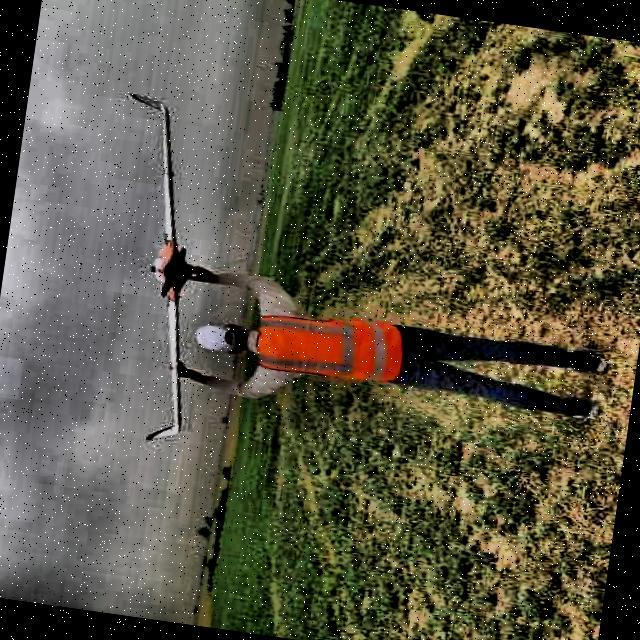iha: (74, 60, 237, 461)
